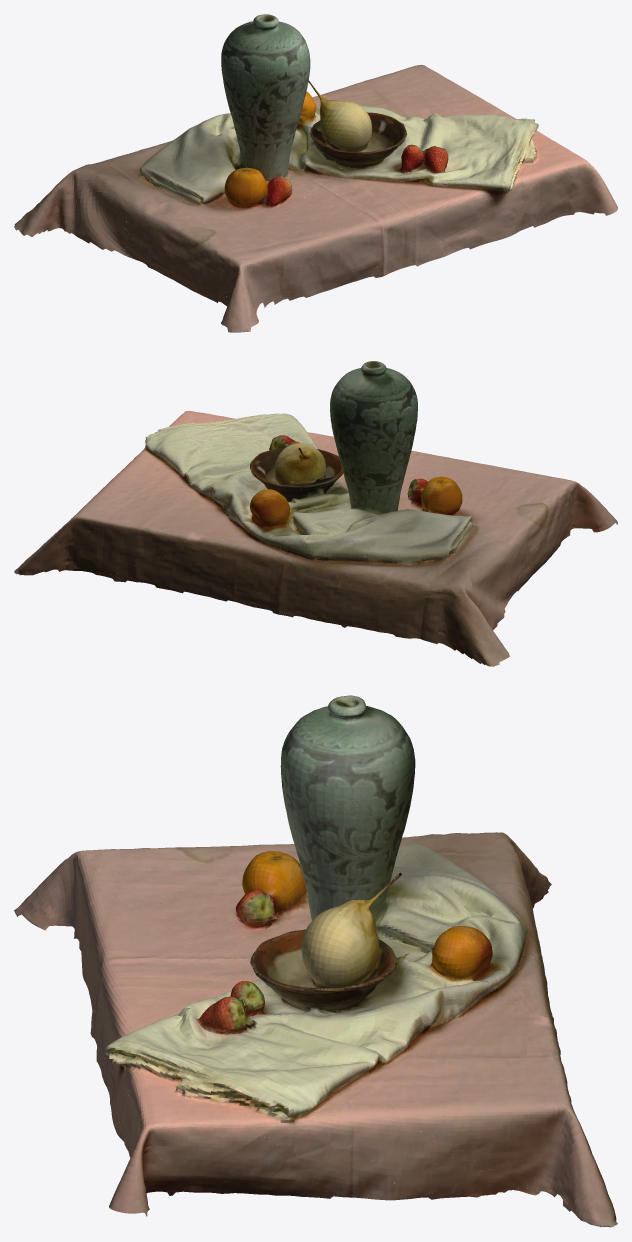
Rendered from 静物系列_瓷瓶草莓01_opt.glb.
3 views of the same model, one above another, from view 1: azimuth 30°, elevation 25°; view 2: azimuth 150°, elevation 25°; view 3: azimuth 270°, elevation 25° (orthographic). The views are drawn at different scales.
Visible parts, largest first — view 1: surfaceShader1SG, surfaceShader1SG_2; view 2: surfaceShader1SG, surfaceShader1SG_2; view 3: surfaceShader1SG, surfaceShader1SG_2.
Part boxes in pixels (x1,y1,x2,y2): surfaceShader1SG: (14, 14, 603, 332); surfaceShader1SG_2: (17, 14, 617, 324); surfaceShader1SG: (14, 361, 617, 666); surfaceShader1SG_2: (14, 361, 602, 663); surfaceShader1SG: (14, 695, 617, 1227); surfaceShader1SG_2: (27, 698, 616, 1227).
Bounding box in the file's own units: 1.38 × 0.6 × 1.02.
Materials: 1 (1 with a texture image).
